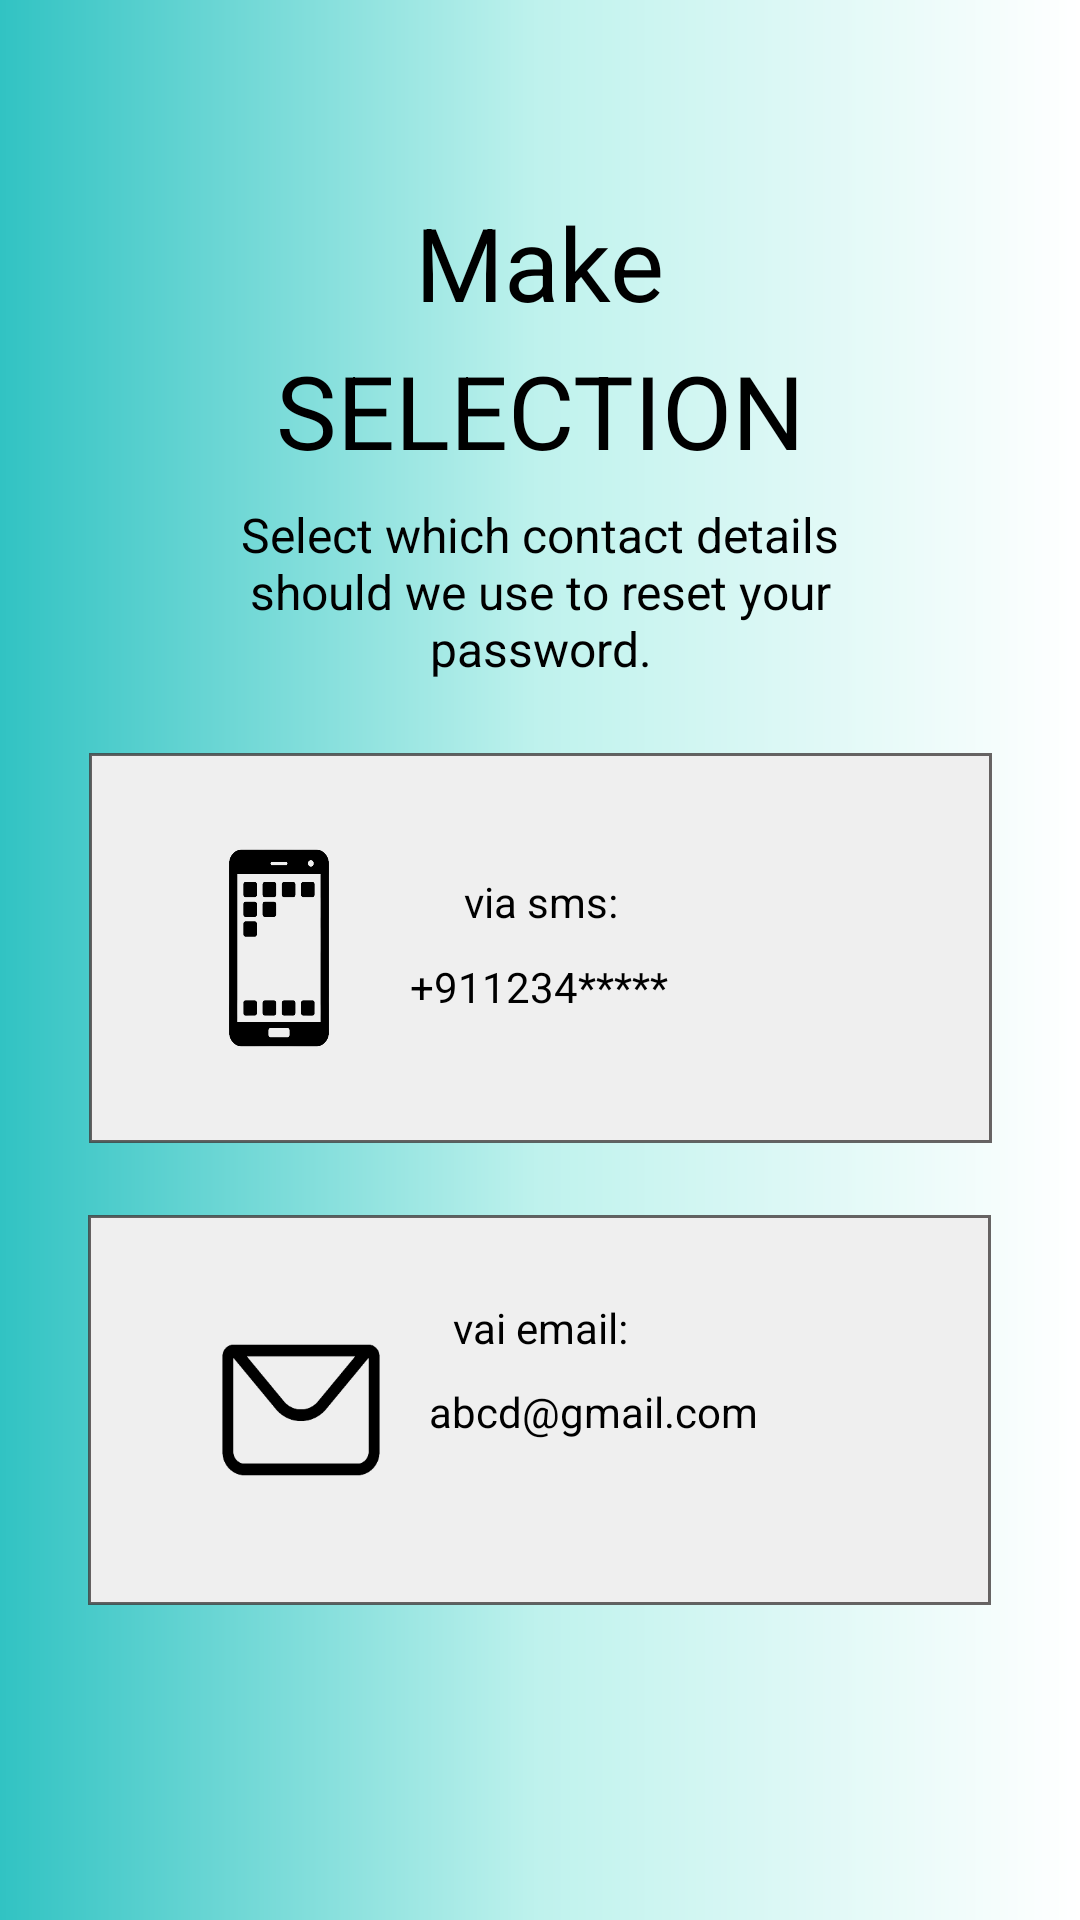

Locate icon controls on the screen. Image size 1080×1920, boxes as {"x1": x1, "y1": y1, "x2": x2, "y2": y2}.
phone: {"x1": 229, "y1": 849, "x2": 329, "y2": 1047}
